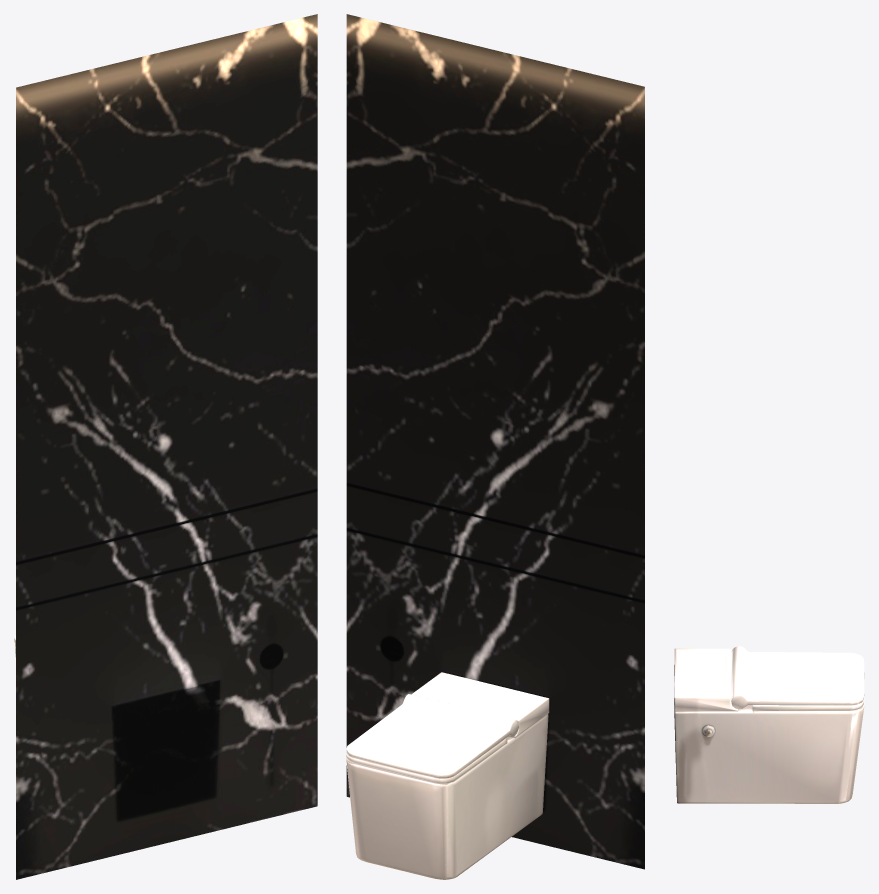
The model's file is EWC_WM_TANKLESS_S2.glb.
3 views of the same model, side by side, from view 1: azimuth 30°, elevation 25°; view 2: azimuth 150°, elevation 25°; view 3: azimuth 270°, elevation 25° (orthographic). The views are drawn at different scales.
Visible parts, largest first — view 1: EWC_WM_TANKLESS_S2; view 2: EWC_WM_TANKLESS_S2; view 3: EWC_WM_TANKLESS_S2.
Boxes of the visible parts, x1,y1,x2,y2 form: EWC_WM_TANKLESS_S2: (14,14,317,879); EWC_WM_TANKLESS_S2: (346,14,644,879); EWC_WM_TANKLESS_S2: (674,646,864,803).
Size of the model in its own units: 1.22 by 3.05 by 0.7229.
1 material, 1 textured.
